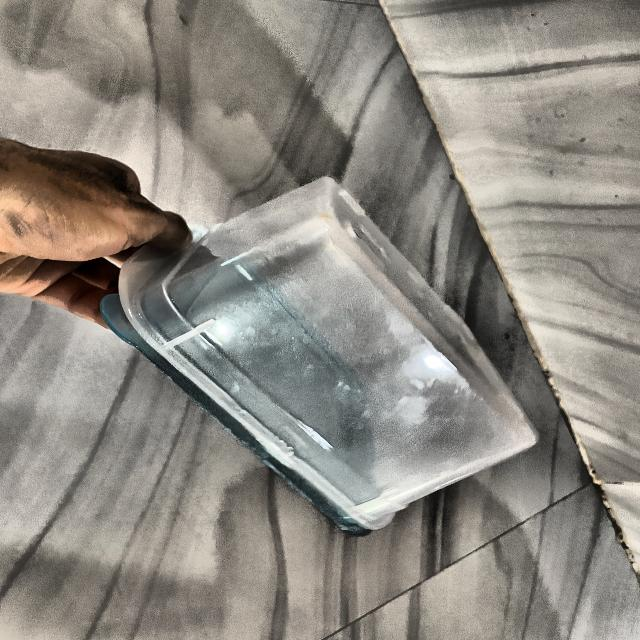plastic container: (119, 161, 540, 556)
